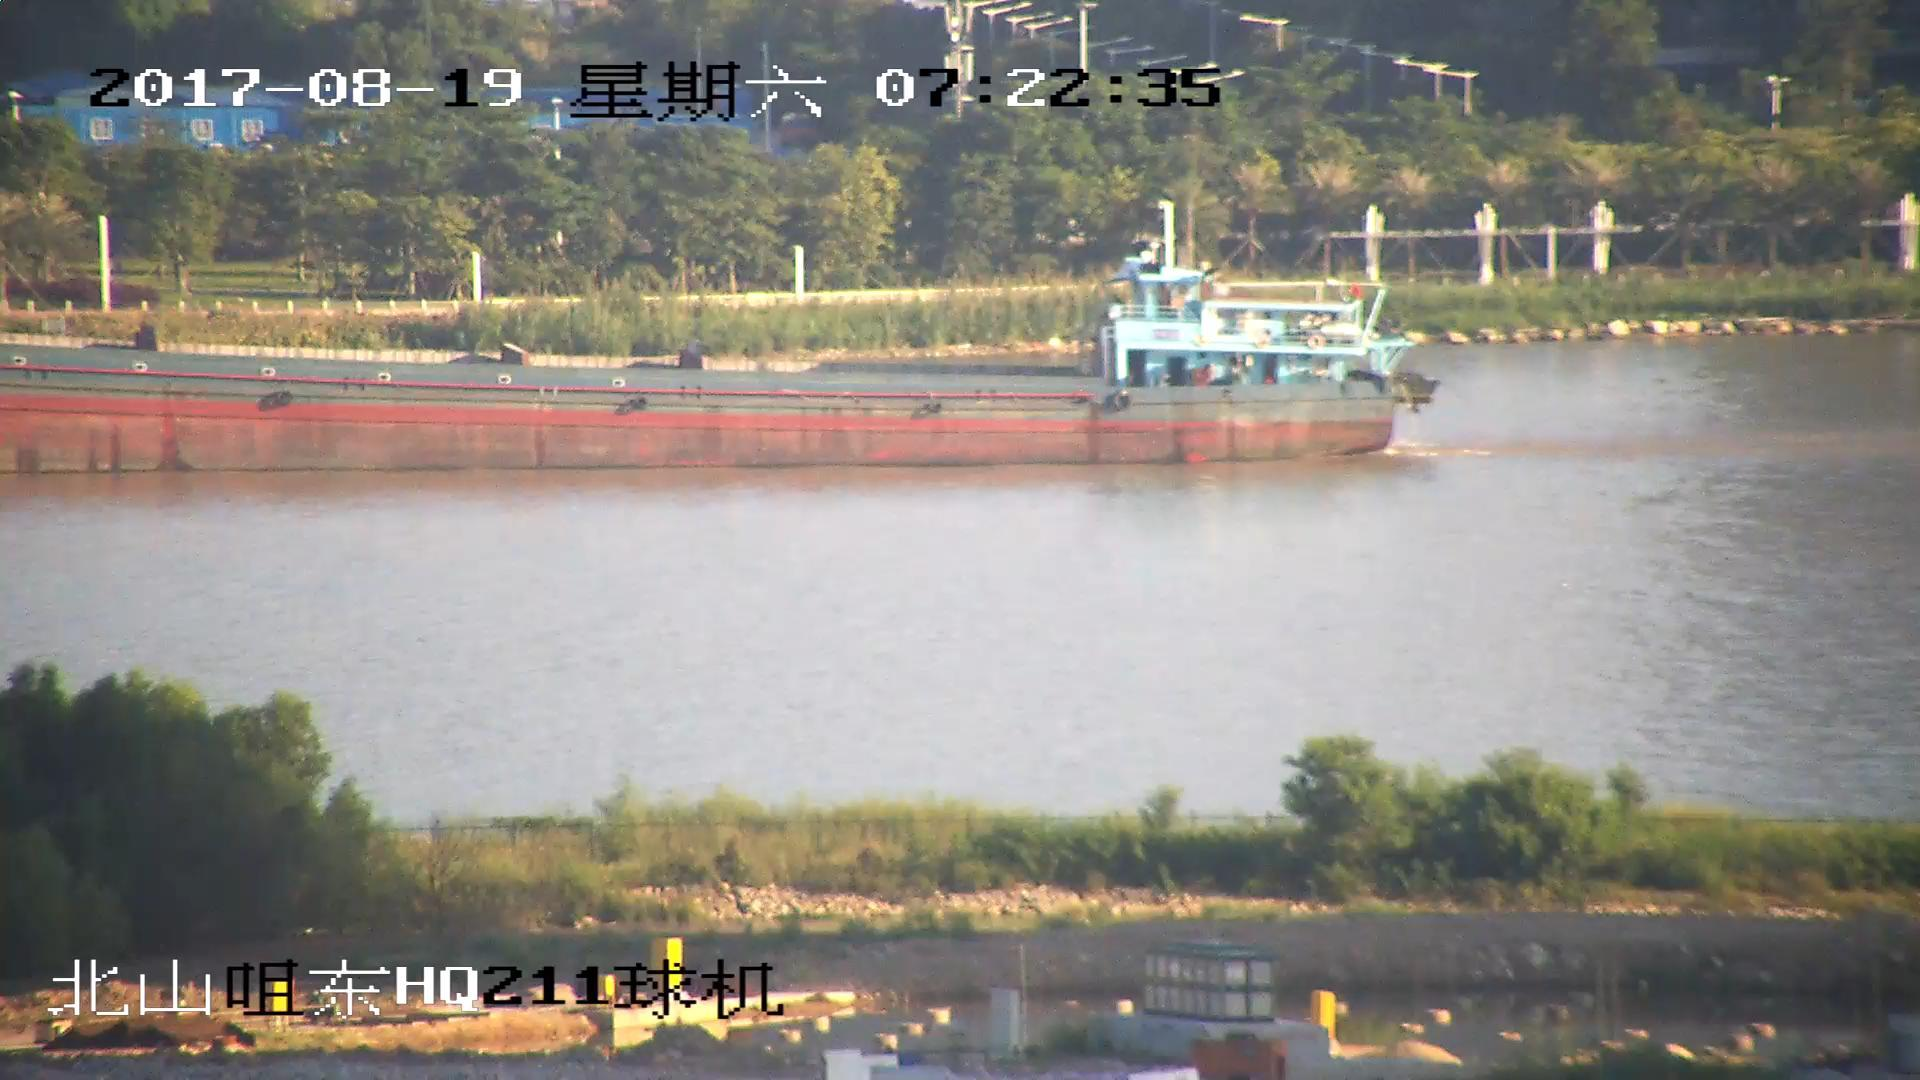Ship: (3, 248, 1428, 472)
